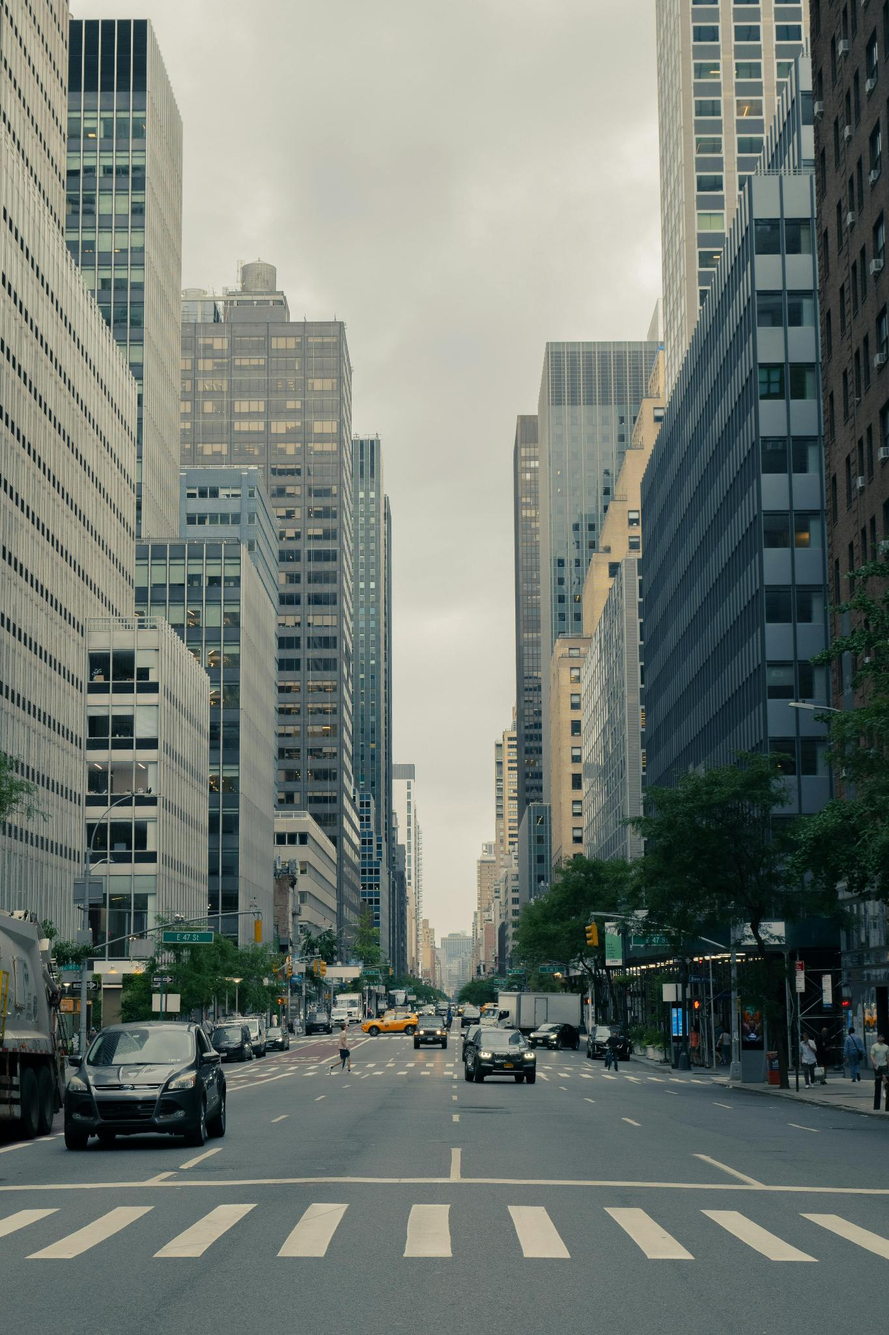car: (66, 1017, 231, 1150), (464, 1024, 538, 1083), (214, 1023, 251, 1061), (363, 1011, 415, 1035), (414, 1024, 449, 1048), (527, 1025, 560, 1049), (588, 1031, 612, 1063), (611, 1031, 634, 1060), (463, 1013, 483, 1040)
pedestrian: (870, 1037, 889, 1117), (331, 1025, 350, 1077), (845, 1028, 863, 1082)
